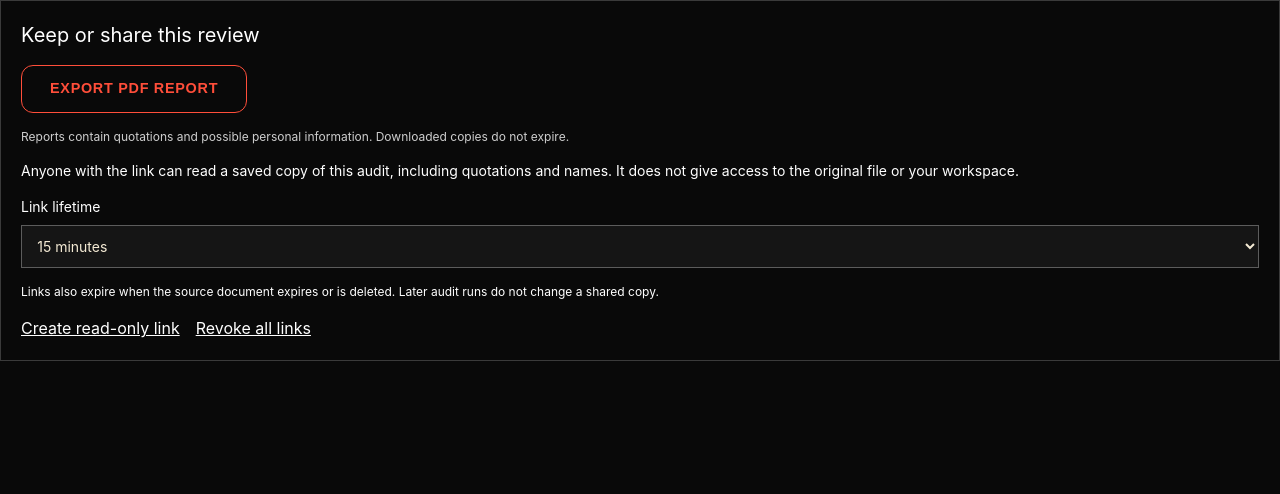
Scenario: creates a fragment link and revokes it without persistence
The image size is (1280, 494).
Click the button "Create read-only link" at (100, 328), box left=21, top=316, right=180, bottom=340
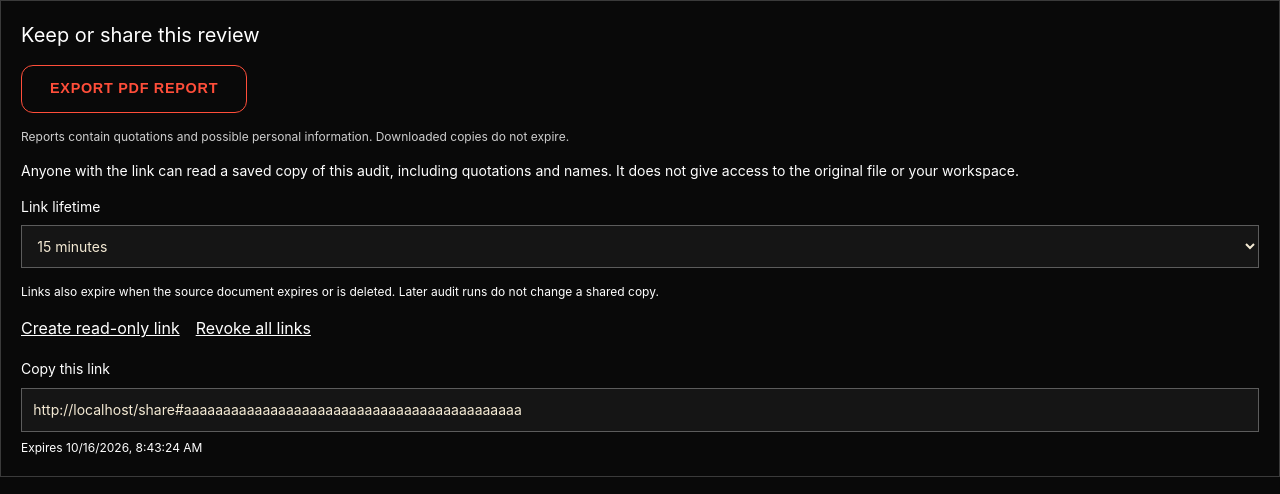
Click the button "Revoke all links" at (253, 328), box left=196, top=316, right=311, bottom=340
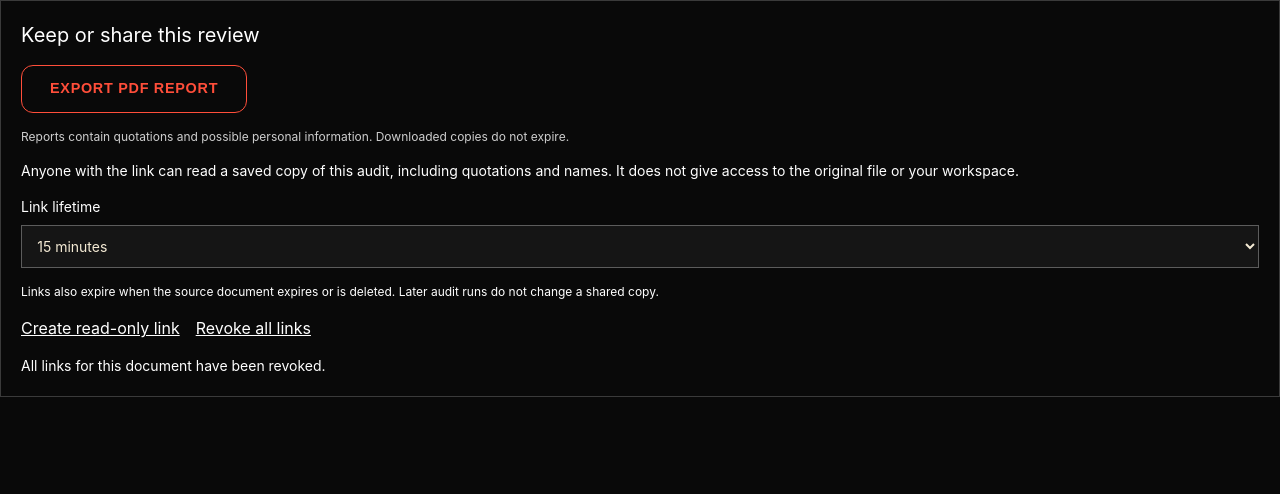
expect the label labelled "Copy this link" is gone: met
